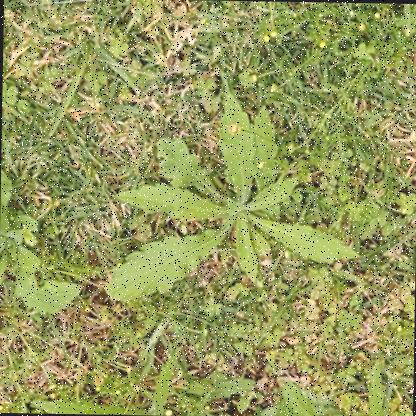Weeds: (110, 85, 362, 305), (0, 165, 88, 318), (31, 345, 217, 415)
